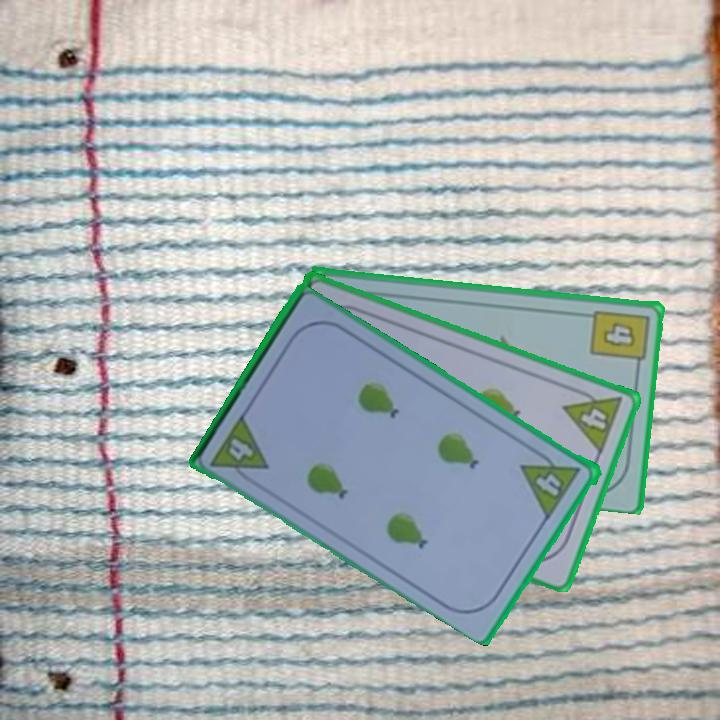4b: (586, 306, 652, 373)
4p: (518, 444, 585, 521), (207, 411, 273, 489), (560, 382, 625, 457)
